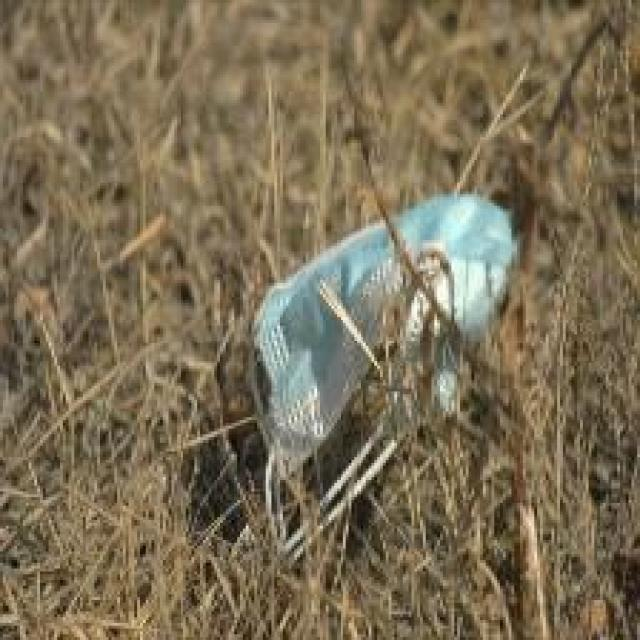Mask: (243, 216, 522, 516)
